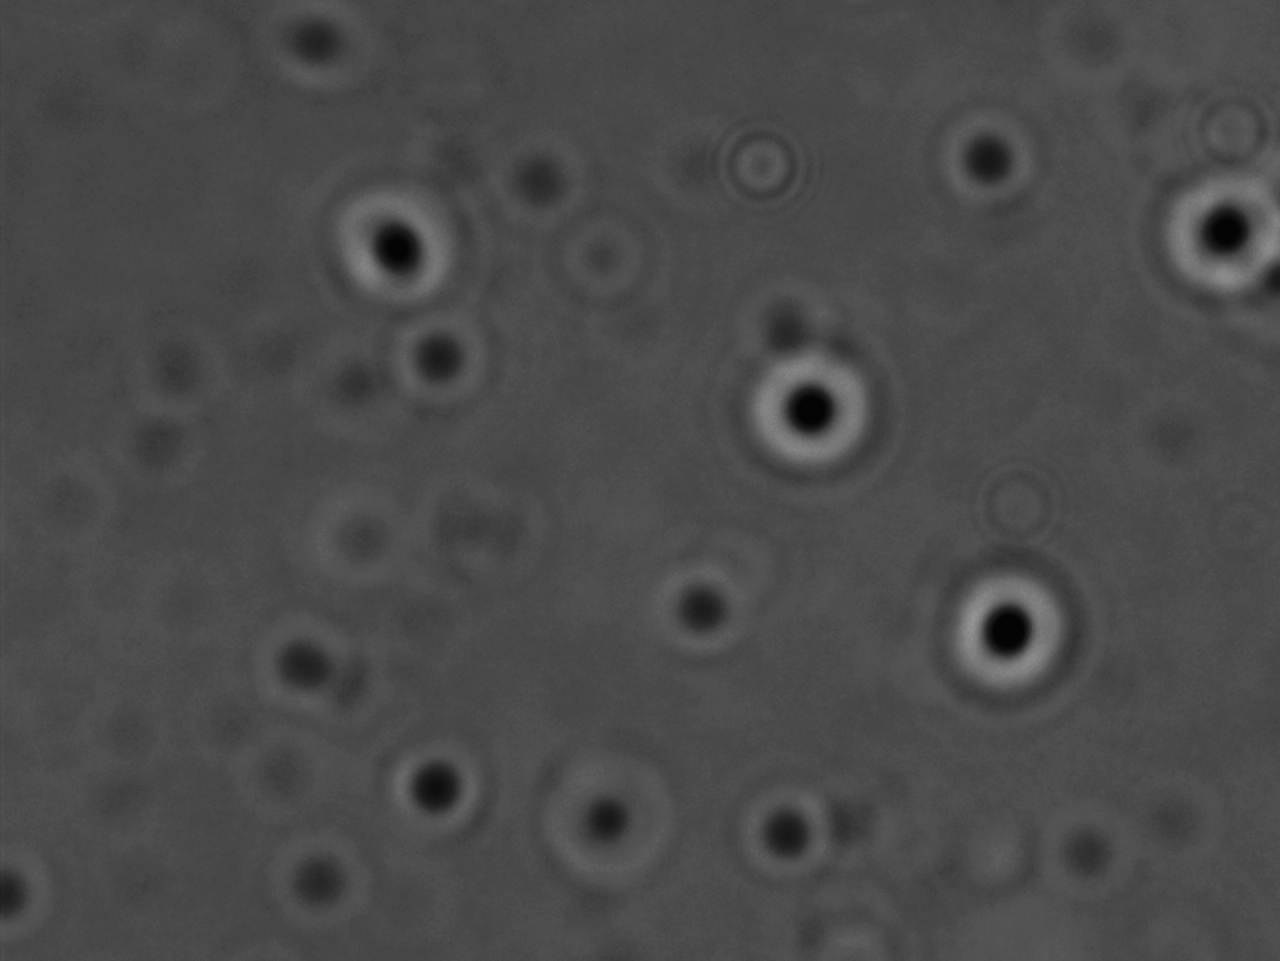depth:-32: (717, 326, 887, 511), (919, 557, 1081, 708), (321, 159, 460, 326), (1156, 168, 1280, 309)
